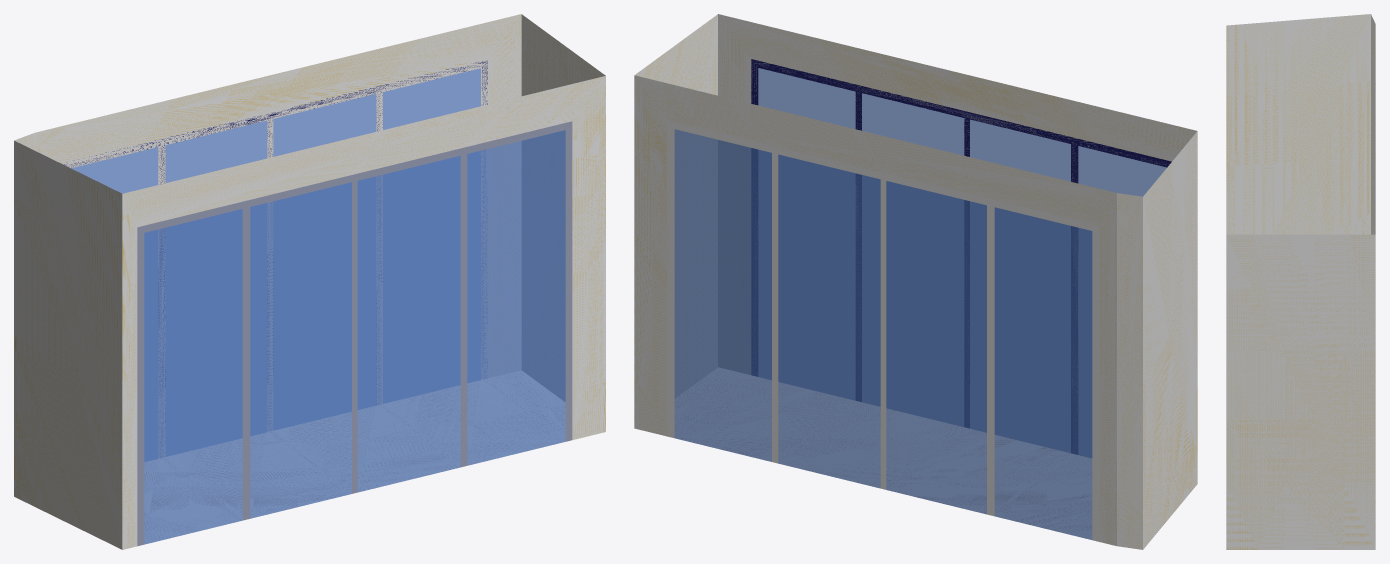
File: COM001.obj
3 views of the same model, side by side, from view 1: azimuth 30°, elevation 25°; view 2: azimuth 150°, elevation 25°; view 3: azimuth 270°, elevation 25° (orthographic). The views are drawn at different scales.
Parts seen in each view (by area): view 1: Mesh1 COM001 Model; view 2: Mesh1 COM001 Model; view 3: Mesh1 COM001 Model.
Boxes of the visible parts, x1,y1,x2,y2 form: Mesh1 COM001 Model: (14,14,605,549); Mesh1 COM001 Model: (634,14,1197,549); Mesh1 COM001 Model: (1226,14,1375,549).
Bounding box in the file's own units: 4.52 × 3.02 × 1.3.
